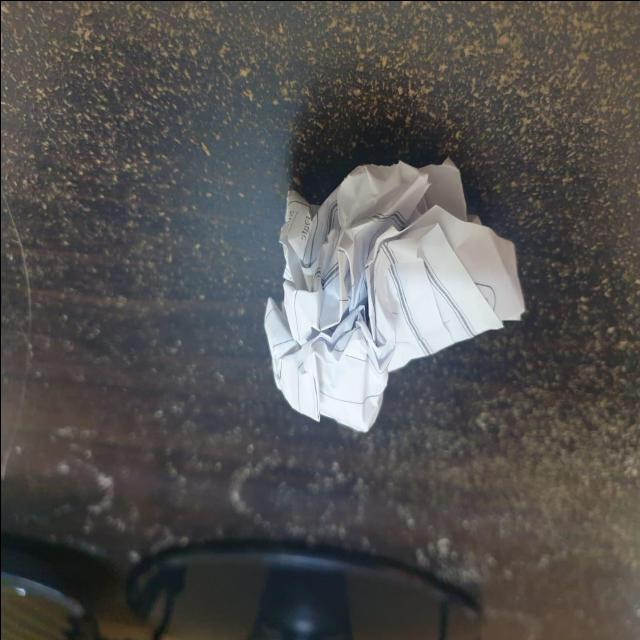kertas: (262, 152, 528, 436)
